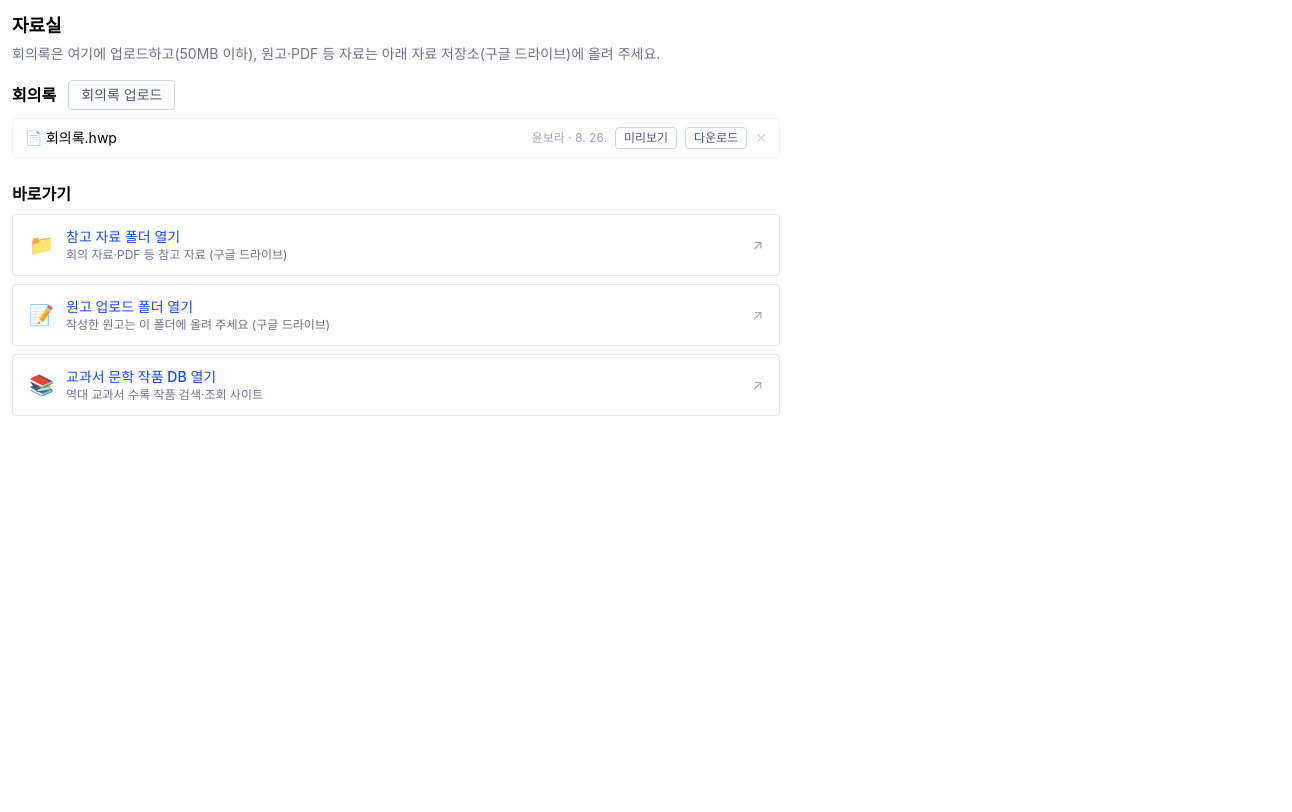
Test: 미지원 형식(hwp)은 안내와 다운로드를 보여준다
The image size is (1292, 812).
Click the button with aria-label "회의록.hwp 미리보기" at (646, 138), box [615, 127, 677, 149]
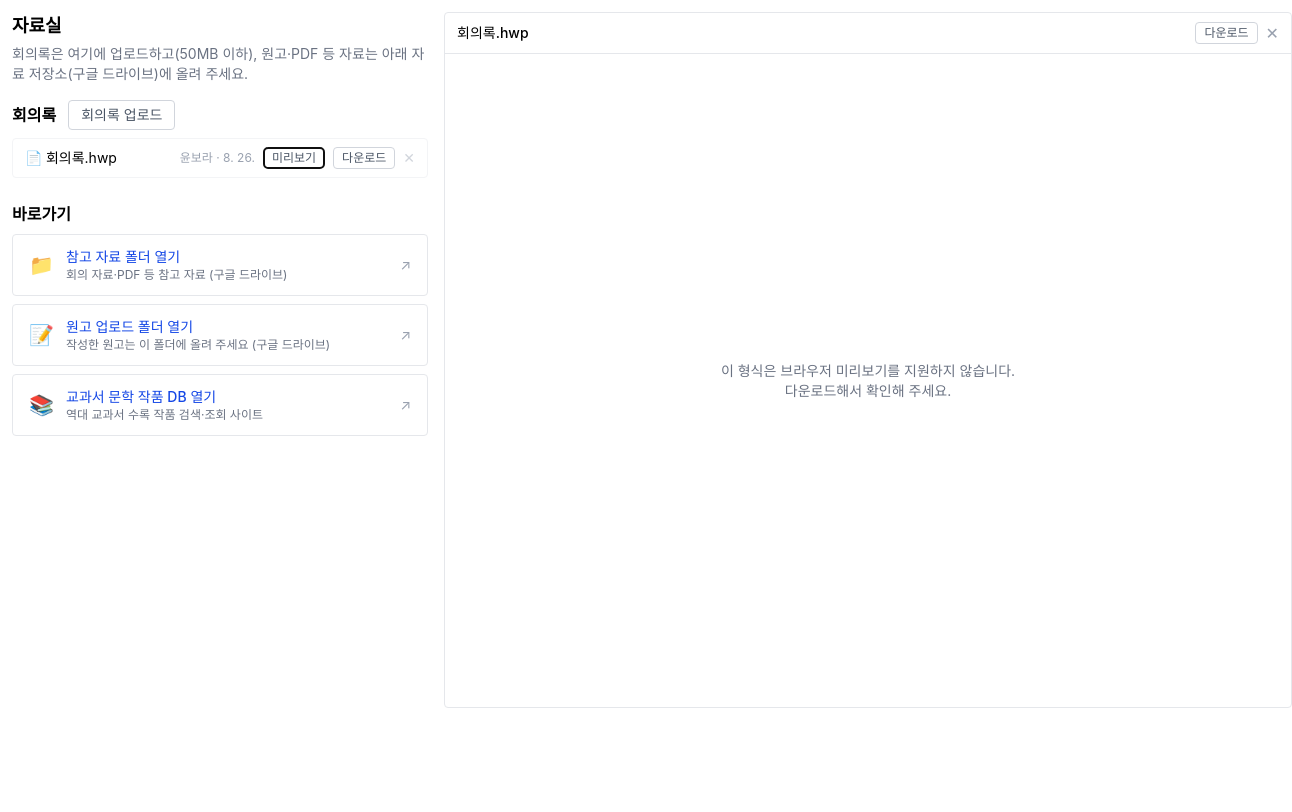
expect the text "이 형식은 브라우저 미리보기를 지원하지 않습니다.다운로드해서 확인해 주세요." is shown: met, box [721, 362, 1015, 398]
